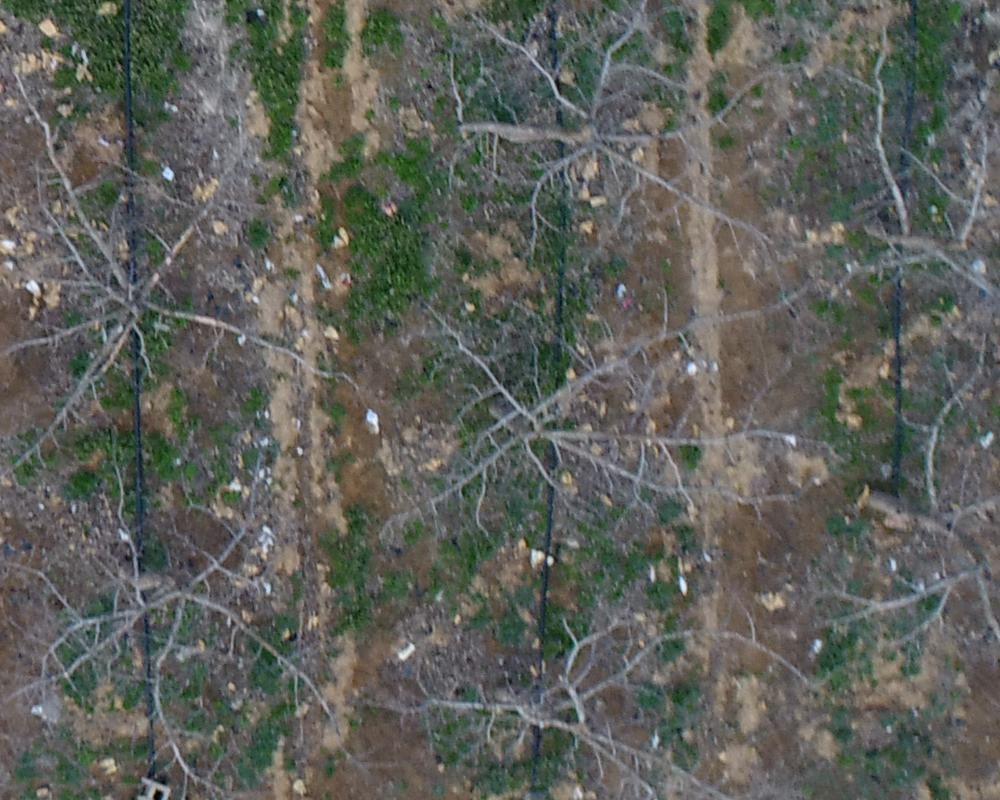apple: (10, 71, 348, 467), (15, 442, 332, 785), (394, 296, 815, 536), (424, 10, 797, 258), (821, 10, 990, 484), (383, 580, 759, 790), (806, 355, 990, 720)
